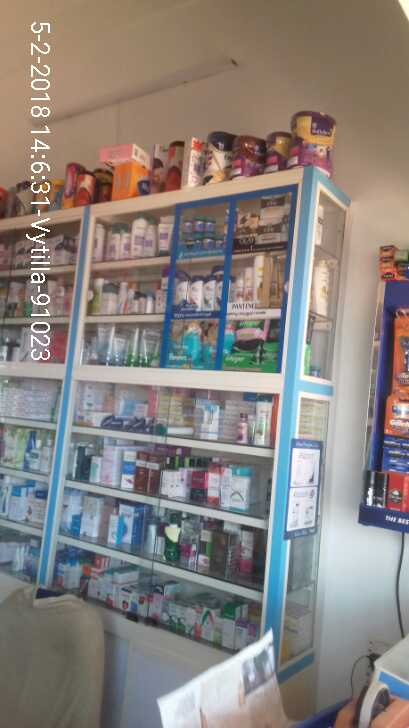vicks: (184, 213, 235, 248)
